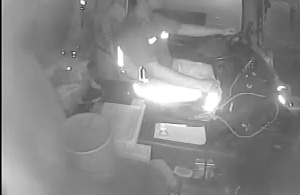paper: (153, 121, 209, 148)
